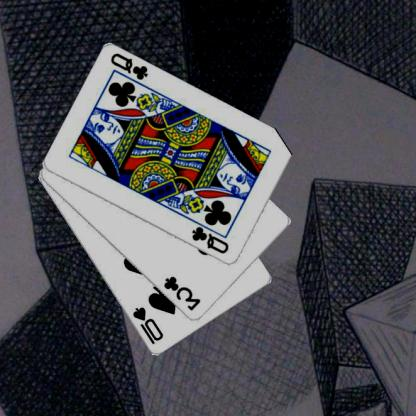10S: (132, 304, 166, 346)
3C: (162, 274, 204, 312)
QC: (191, 224, 232, 256), (110, 50, 151, 82)
